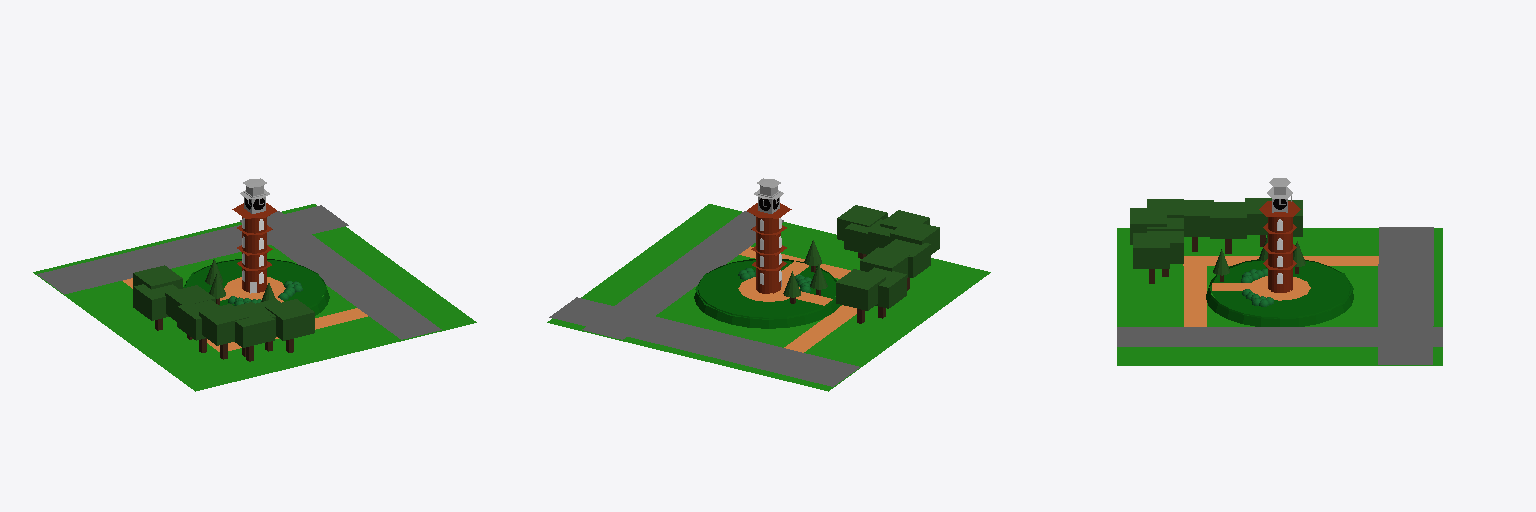
Rendered from clock-tower.obj.
3 views of the same model, side by side, from view 1: azimuth 30°, elevation 25°; view 2: azimuth 150°, elevation 25°; view 3: azimuth 270°, elevation 25° (orthographic).
Parts seen in each view (by area): view 1: Plane3, Plane5, Plane4, Circle, Box18, Box8, Box14, Cylinder, Box20, Box16, Box6, Box22 (+1 smaller); view 2: Plane3, Plane5, Plane4, Circle, Sphere, Box22, Cylinder, Plane6, Box20, Box8, Box6, Box16 (+3 smaller); view 3: Plane3, Plane5, Plane4, Circle, Sphere, Cylinder, Plane7, Box6, Box18, Plane6, Box16, Box14 (+3 smaller).
Boxes of the visible parts, x1=… form: Plane3: x1=33, y1=204, x2=476, y2=391; Plane5: x1=37, y1=205, x2=348, y2=294; Plane4: x1=240, y1=211, x2=441, y2=339; Circle: x1=183, y1=260, x2=326, y2=306; Box18: x1=265, y1=299, x2=314, y2=340; Box8: x1=199, y1=304, x2=248, y2=345; Box14: x1=235, y1=306, x2=274, y2=347; Cylinder: x1=242, y1=217, x2=266, y2=292; Box20: x1=133, y1=284, x2=178, y2=320; Box16: x1=177, y1=300, x2=218, y2=340; Box6: x1=165, y1=285, x2=215, y2=321; Box22: x1=133, y1=265, x2=182, y2=289; Plane3: x1=547, y1=204, x2=990, y2=391; Plane5: x1=549, y1=297, x2=859, y2=386; Plane4: x1=582, y1=211, x2=783, y2=339; Circle: x1=695, y1=260, x2=835, y2=319; Sphere: x1=694, y1=259, x2=840, y2=328; Box22: x1=836, y1=269, x2=885, y2=310; Cylinder: x1=756, y1=217, x2=780, y2=293; Plane6: x1=784, y1=305, x2=856, y2=352; Box20: x1=869, y1=267, x2=906, y2=308; Box8: x1=890, y1=220, x2=939, y2=254; Box6: x1=860, y1=247, x2=909, y2=277; Box16: x1=883, y1=239, x2=930, y2=277; Plane3: x1=1117, y1=228, x2=1442, y2=365; Plane5: x1=1378, y1=227, x2=1433, y2=364; Plane4: x1=1117, y1=327, x2=1442, y2=346; Circle: x1=1210, y1=260, x2=1353, y2=318; Sphere: x1=1206, y1=259, x2=1353, y2=326; Cylinder: x1=1268, y1=217, x2=1292, y2=292; Plane7: x1=1184, y1=261, x2=1206, y2=326; Box6: x1=1210, y1=202, x2=1246, y2=238; Box18: x1=1133, y1=233, x2=1169, y2=268; Plane6: x1=1183, y1=256, x2=1378, y2=265; Box16: x1=1184, y1=200, x2=1213, y2=236; Box14: x1=1130, y1=208, x2=1166, y2=244.
Bounding box in the file's own units: 12.99 × 6.38 × 12.87.